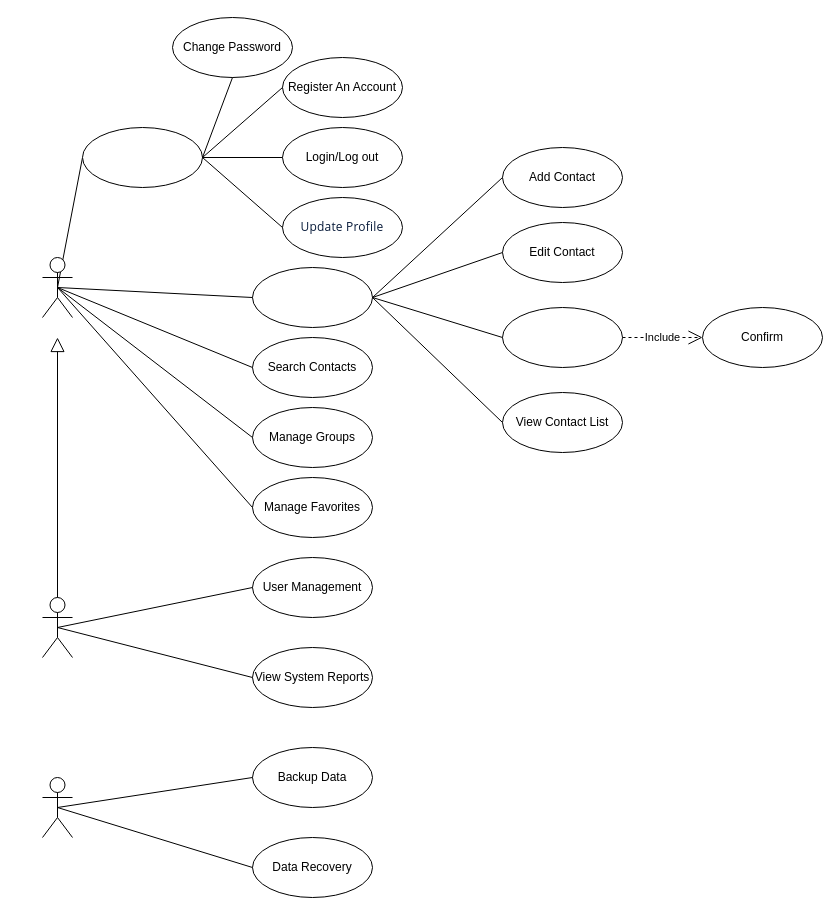
The diagram is 840 pixels wide and 915 high, and some of its shapes have lost their labels. Here are the shapes that lost their labels. From the top down, the box of each, then its label:
(82, 126, 202, 188): Manage User Account
(42, 256, 72, 318): User
(252, 266, 372, 328): Contacts Management
(502, 306, 622, 368): Delete Contact
(42, 596, 72, 658): Admin
(42, 776, 72, 838): Backup system
